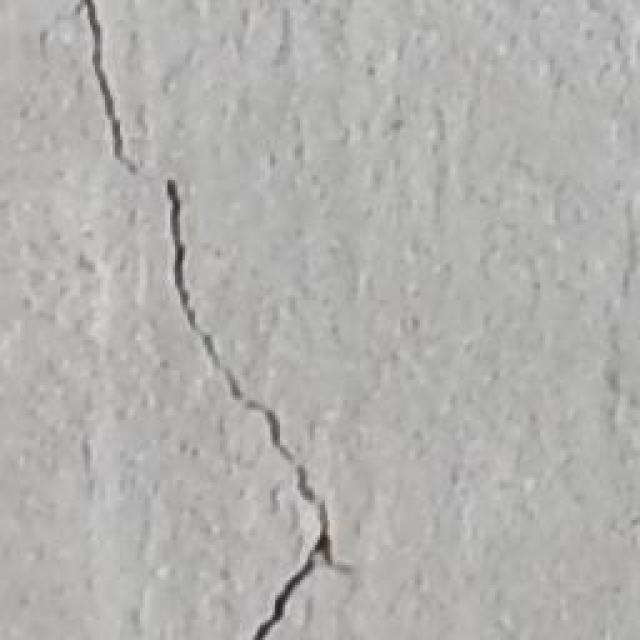concrete-crack: (170, 175, 348, 640), (82, 0, 142, 175)
